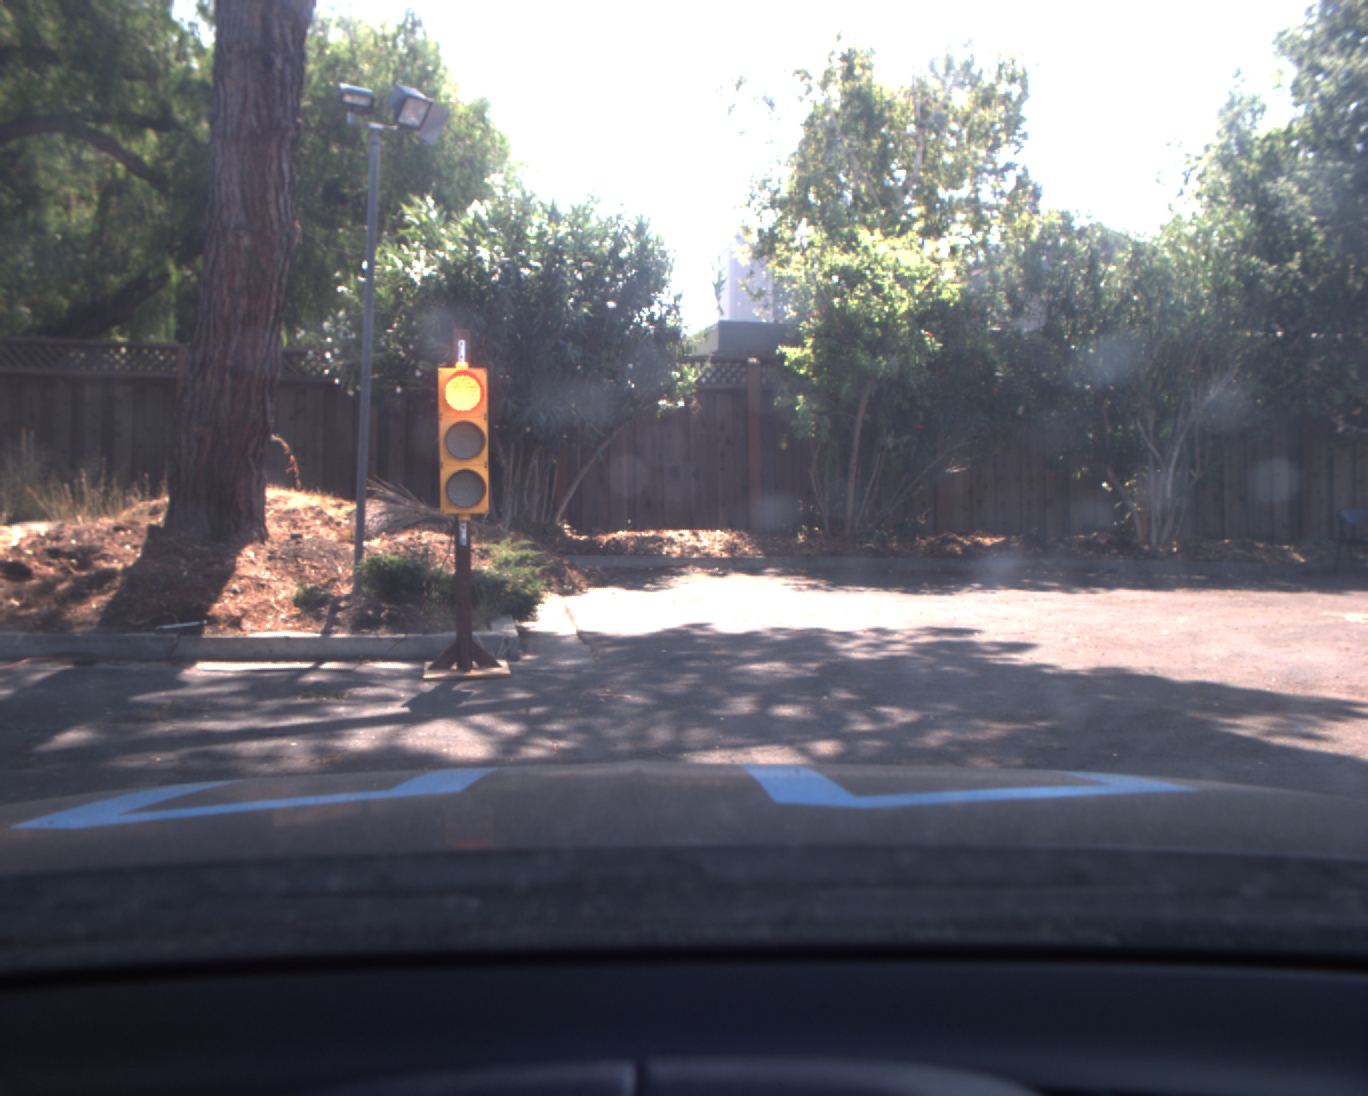red: (430, 360, 492, 518)
